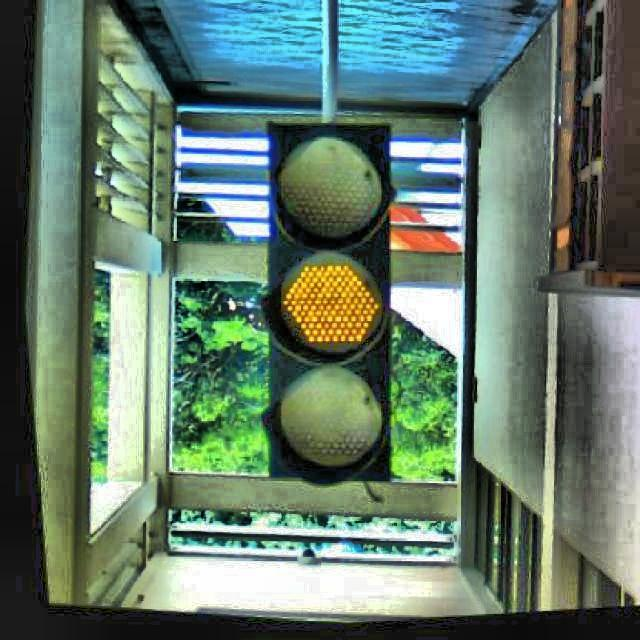yellow: (266, 122, 398, 480)
